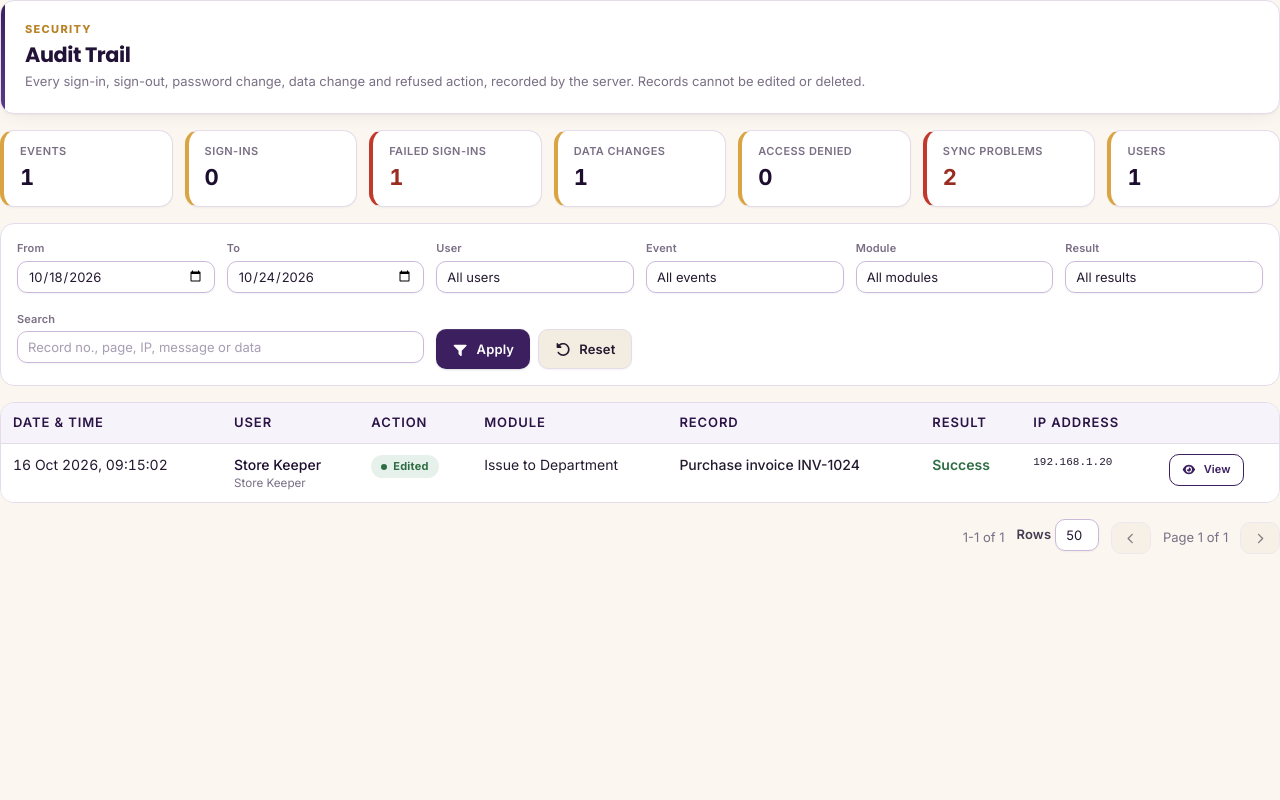
an edit shows who created it, who edited it, and each previous and new value
Click the button with aria-label "View details of event 9": {"x": 1206, "y": 470} 1169,454 -> 1244,486
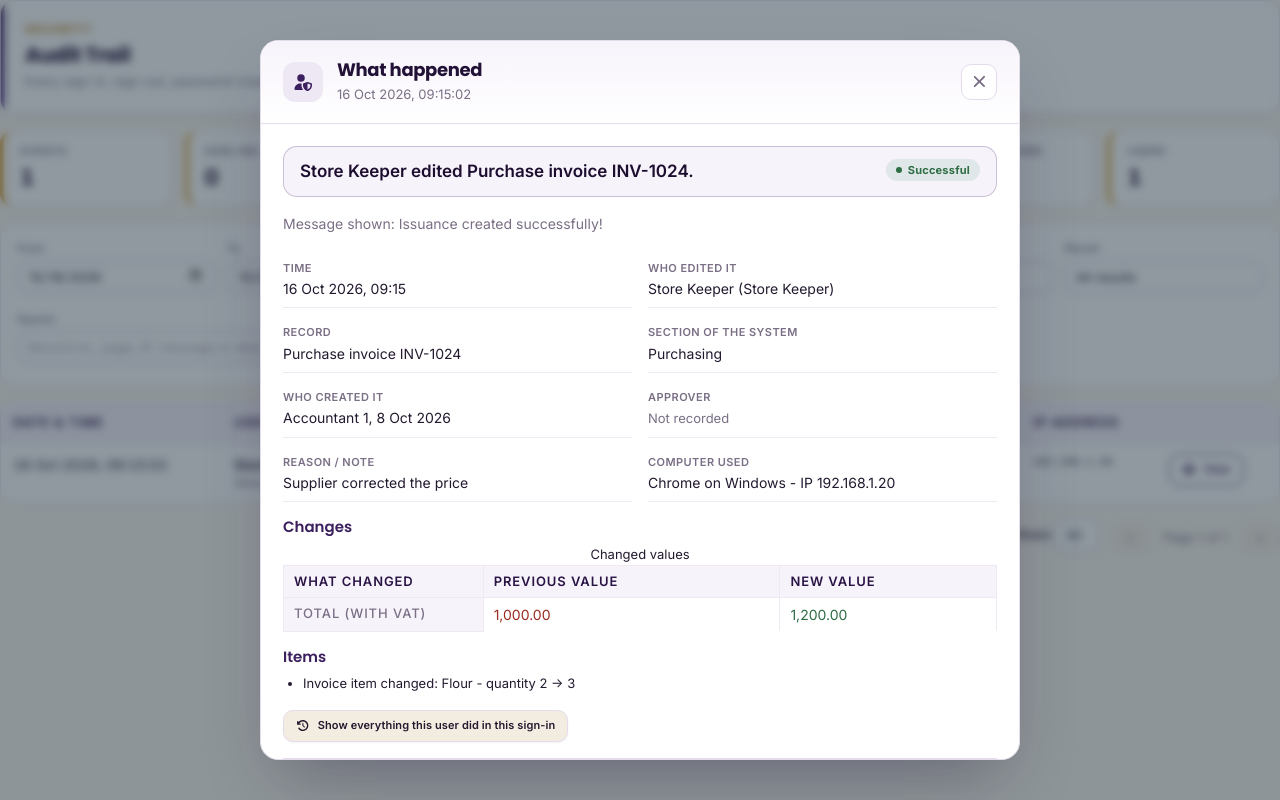
Check: the text "Store Keeper edited Purchase invoice INV-1024." is shown, box 300,159 -> 694,184
Check: the text "Who edited it" is shown, box 648,261 -> 737,275
Check: the text "Accountant 1, 8 Oct 2026" is shown, box 283,409 -> 451,426
